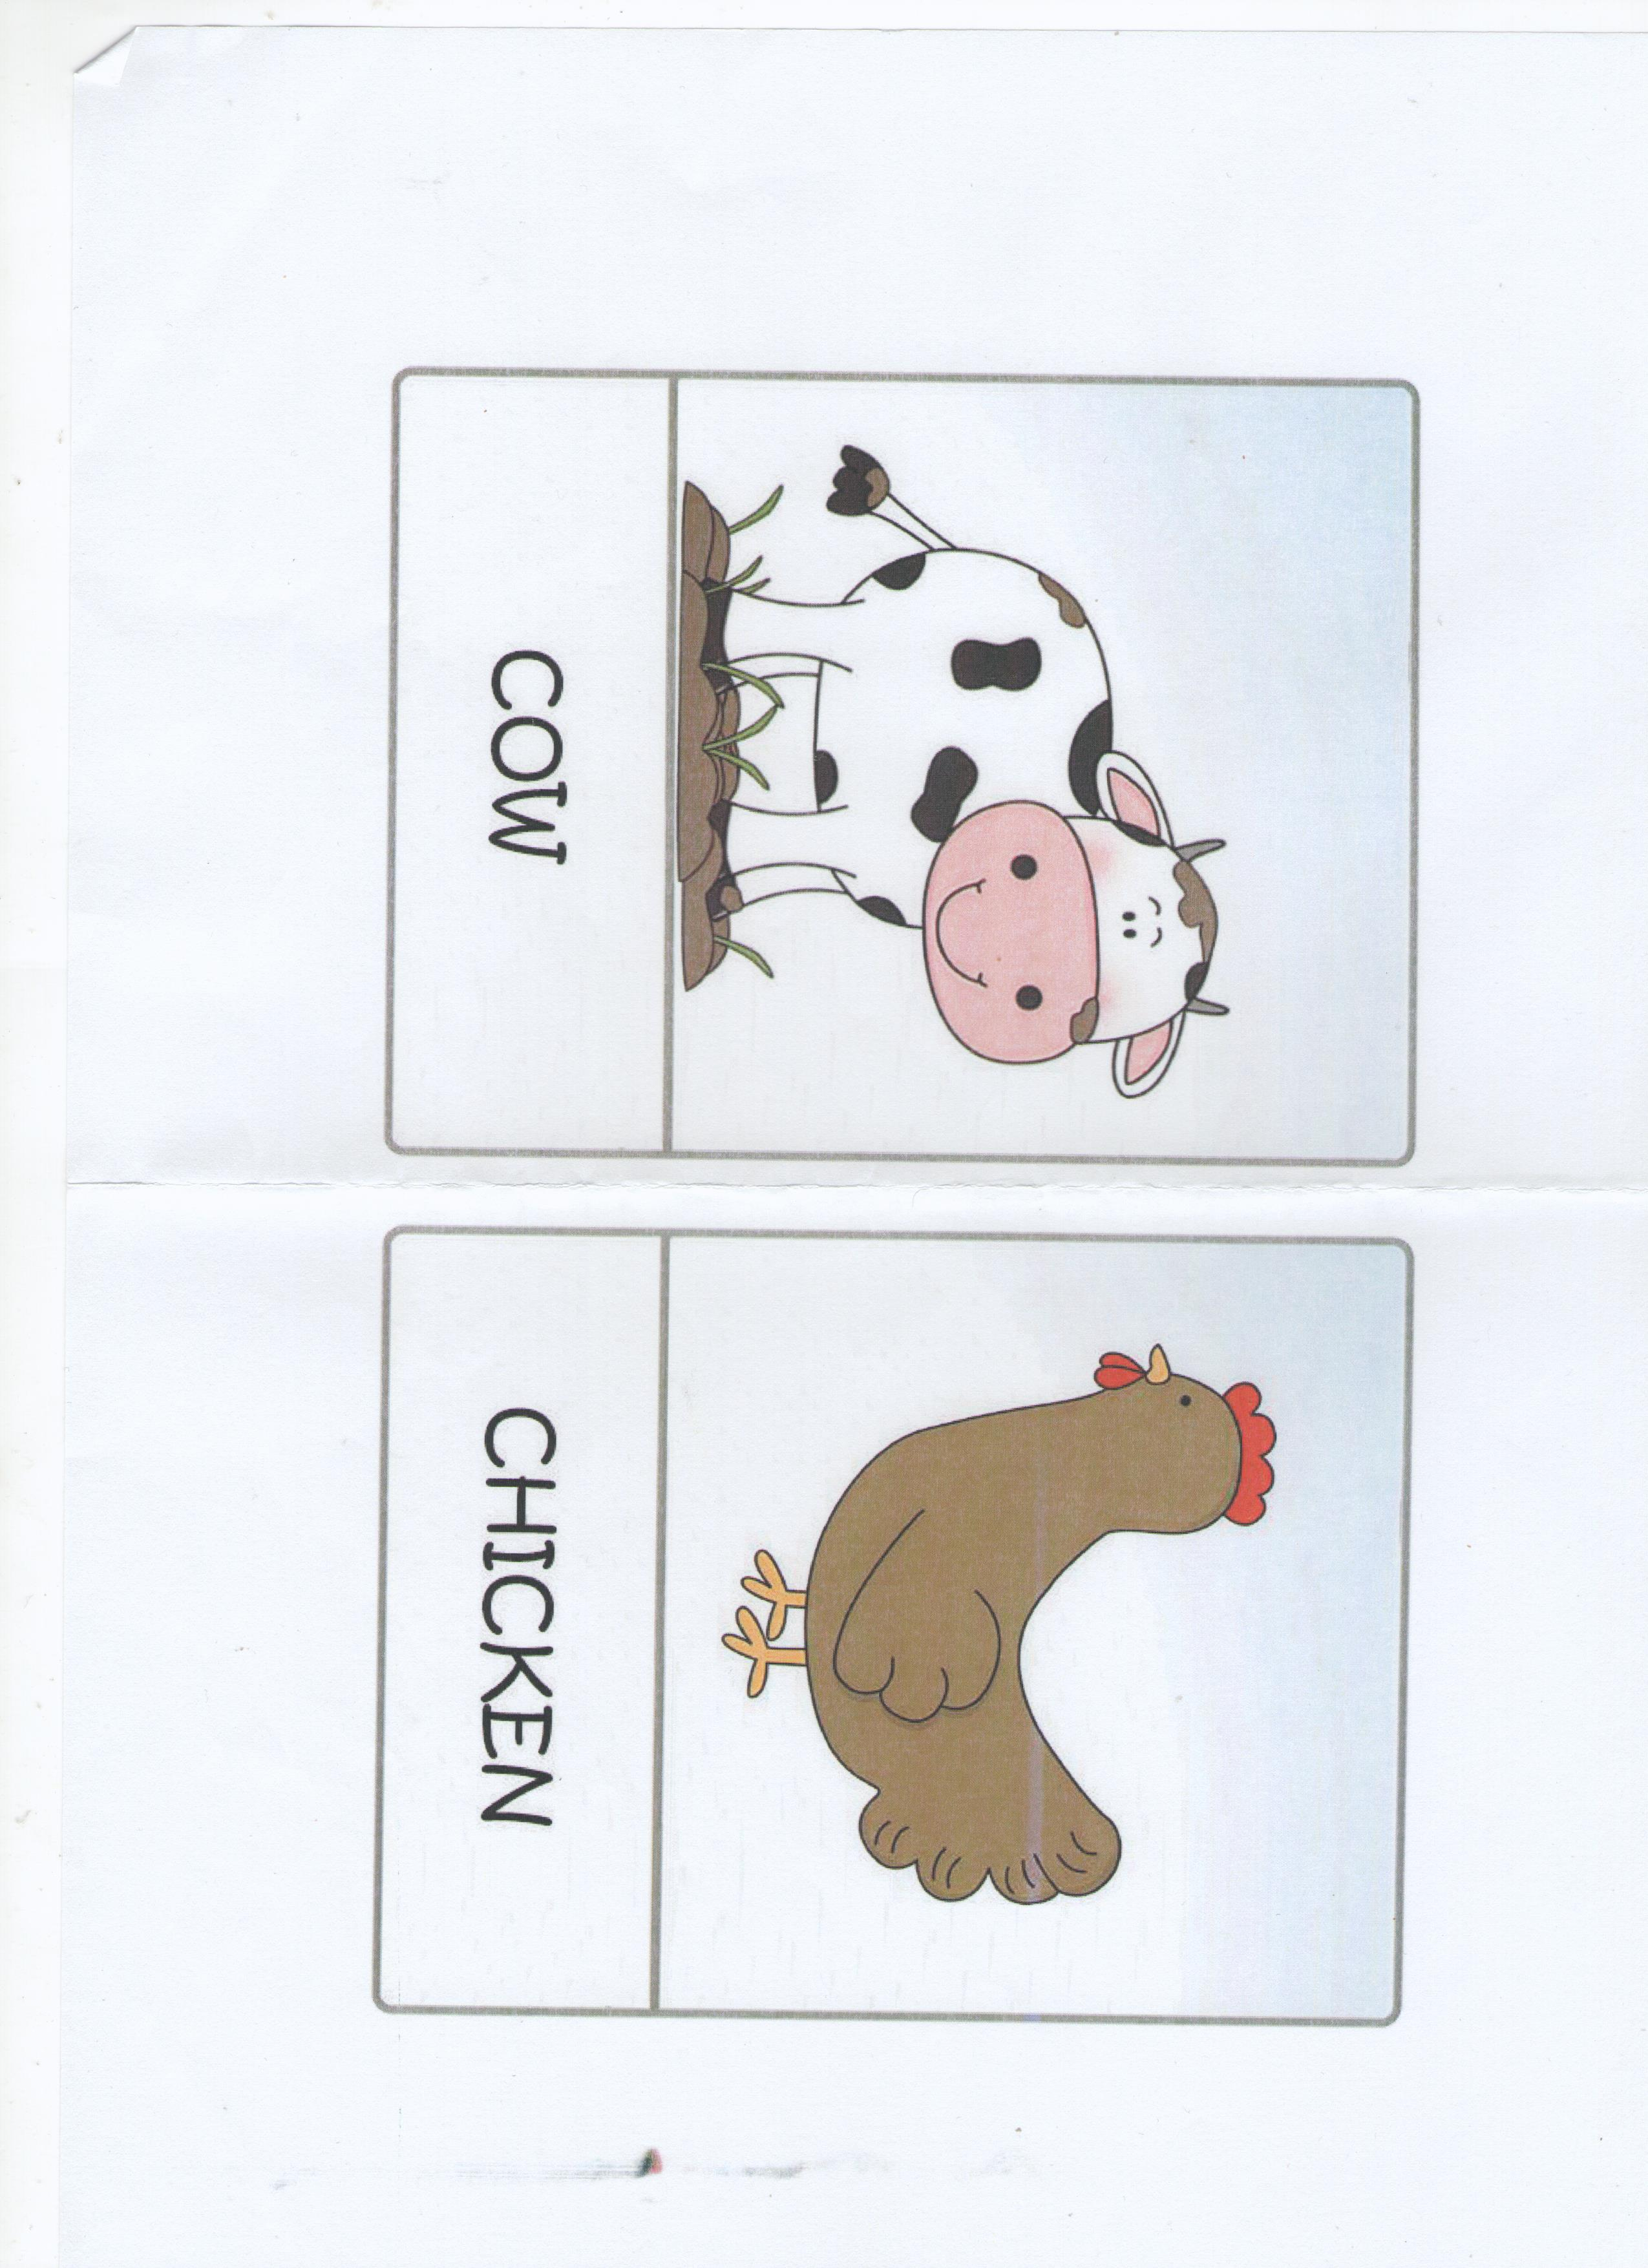gallina: (410, 1246, 1351, 1984)
mucca: (403, 380, 1379, 1129)
